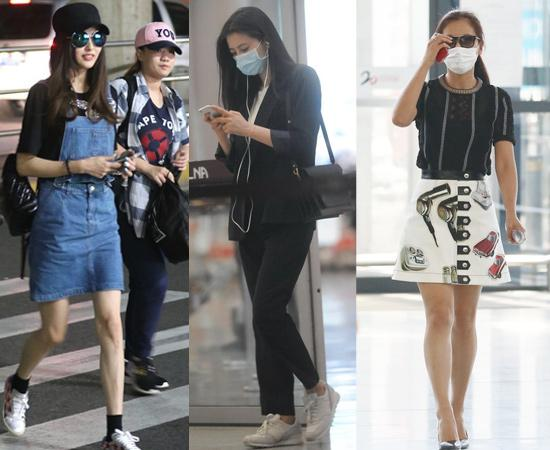NONE: (72, 32, 102, 71), (147, 46, 176, 78)
OK: (228, 35, 268, 77), (443, 33, 479, 72)
